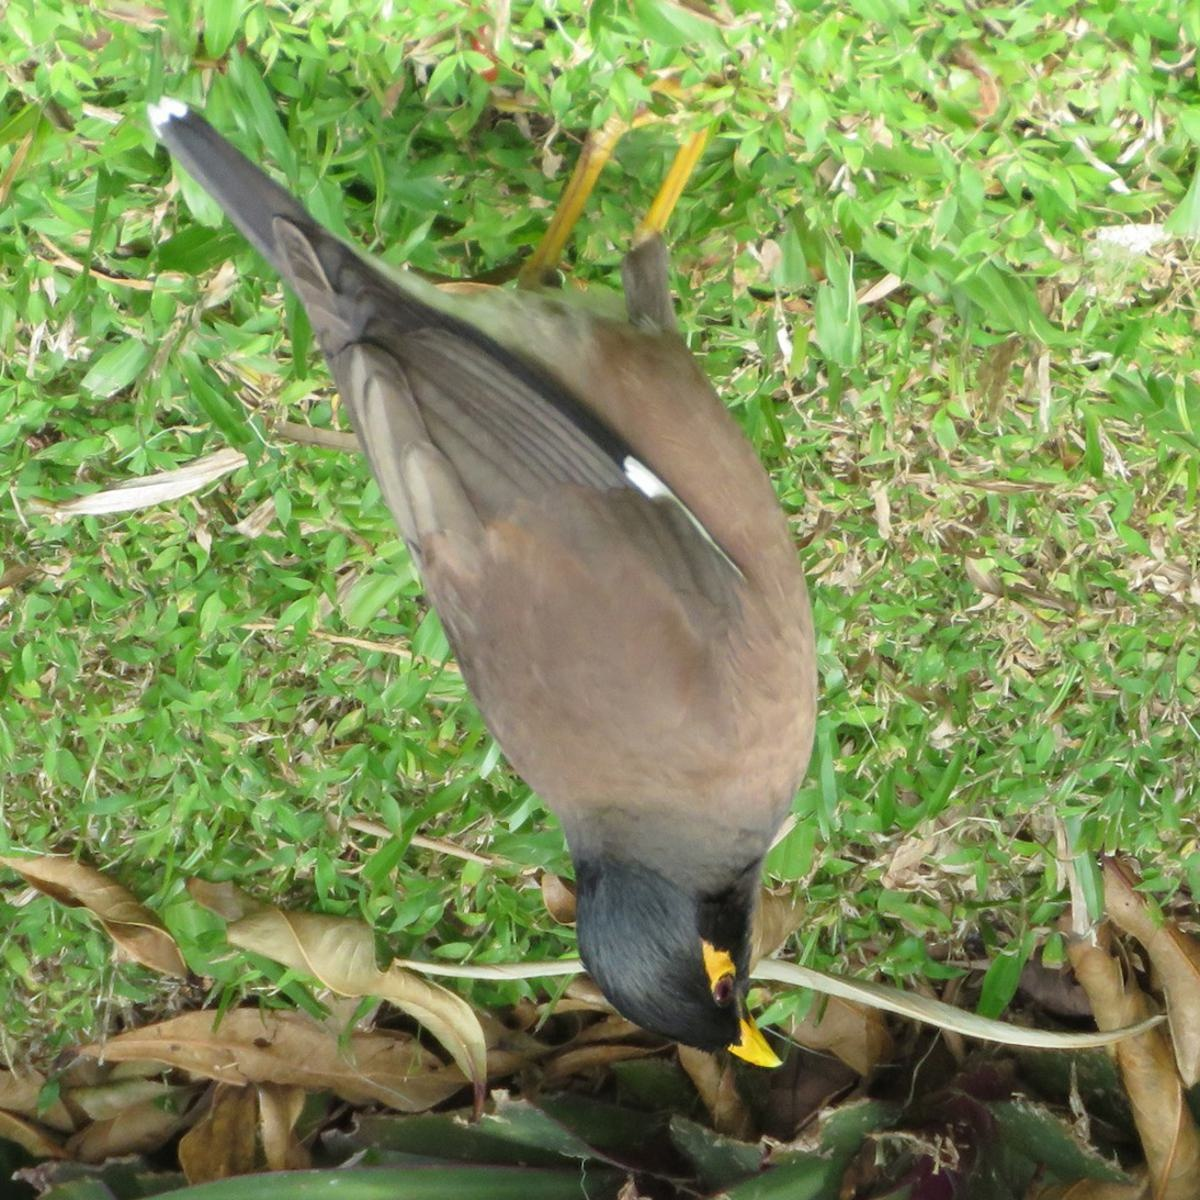myna: (173, 114, 865, 1095)
